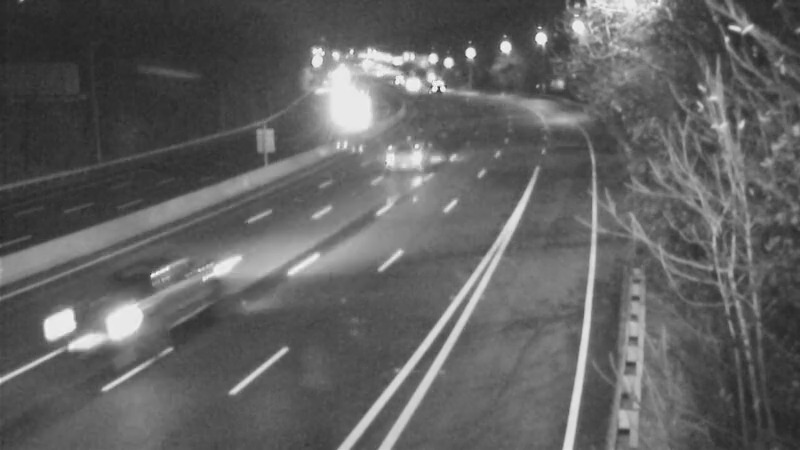vehicle: (371, 112, 451, 192), (90, 259, 170, 339), (384, 60, 434, 110), (413, 63, 463, 113), (327, 82, 377, 132)
